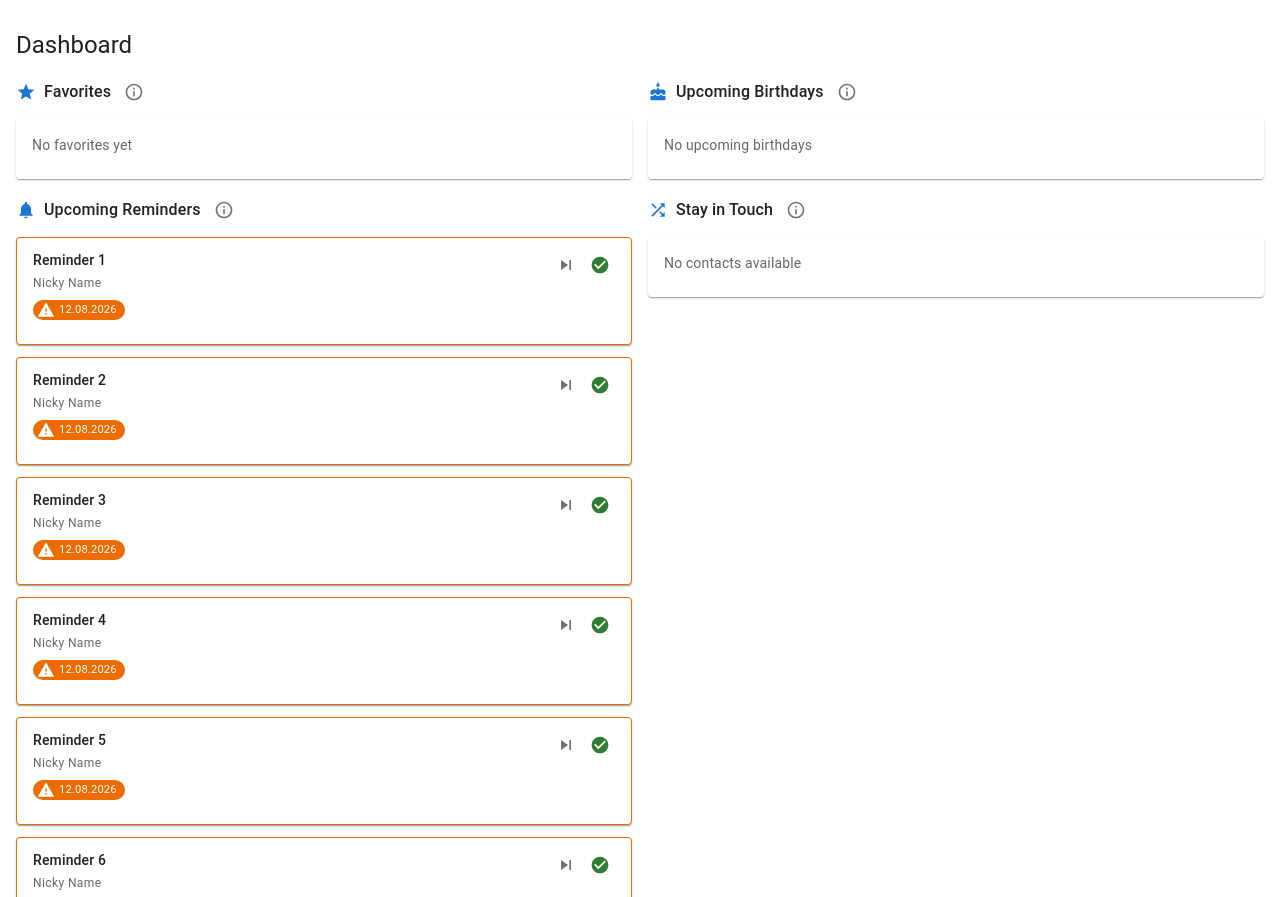
Scenario: a reminder refetch after completion keeps the block capped and the total current
Click the 1st button named "Complete" at {"x": 600, "y": 265}, box [585,250,615,280]
(page scrolled)
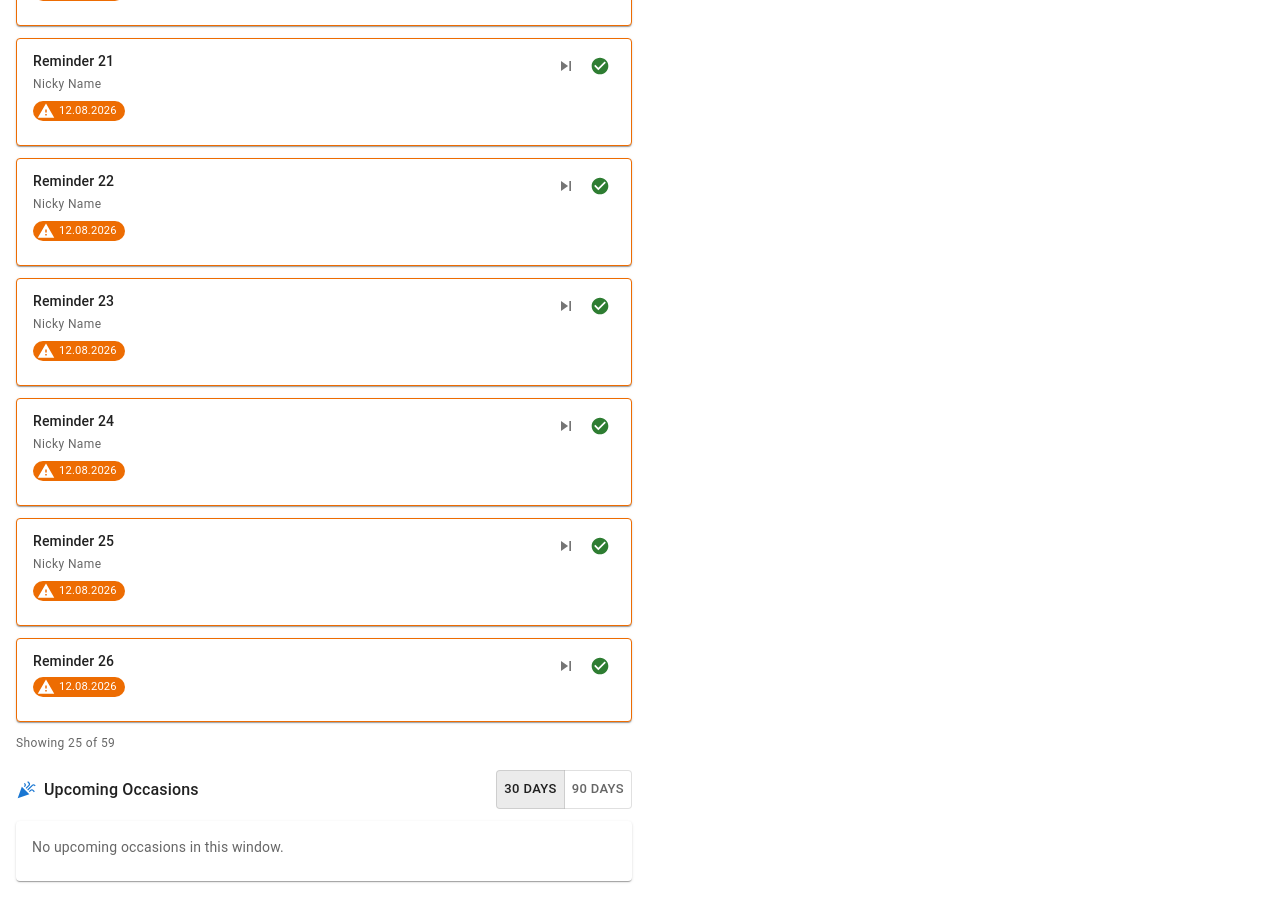
Now the text "Showing 25 of 59" is shown, box [16,736,115,750]
